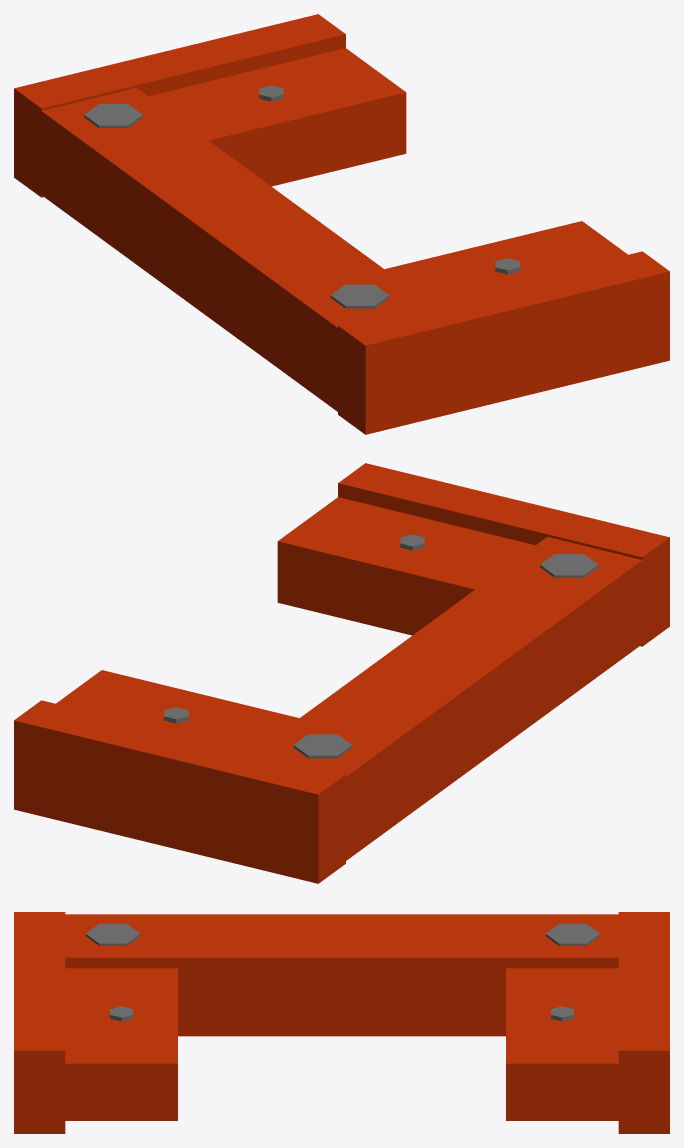
Rendered from Prop_Industrial_Beams_Brace_05.FBX.
The picture shows the model from 3 angles, top to bottom: view 1: azimuth 30°, elevation 25°; view 2: azimuth 150°, elevation 25°; view 3: azimuth 270°, elevation 25°; orthographic projection. The views are drawn at different scales.
Parts seen in each view (by area): view 1: Prop_Industrial_Beams_Brace_05; view 2: Prop_Industrial_Beams_Brace_05; view 3: Prop_Industrial_Beams_Brace_05.
Boxes of the visible parts, box(x1,y1,x2,y2) form: Prop_Industrial_Beams_Brace_05: box(14, 14, 669, 434); Prop_Industrial_Beams_Brace_05: box(14, 463, 669, 883); Prop_Industrial_Beams_Brace_05: box(14, 912, 669, 1133).
Size of the model in its own units: 1000 by 280 by 2000.
